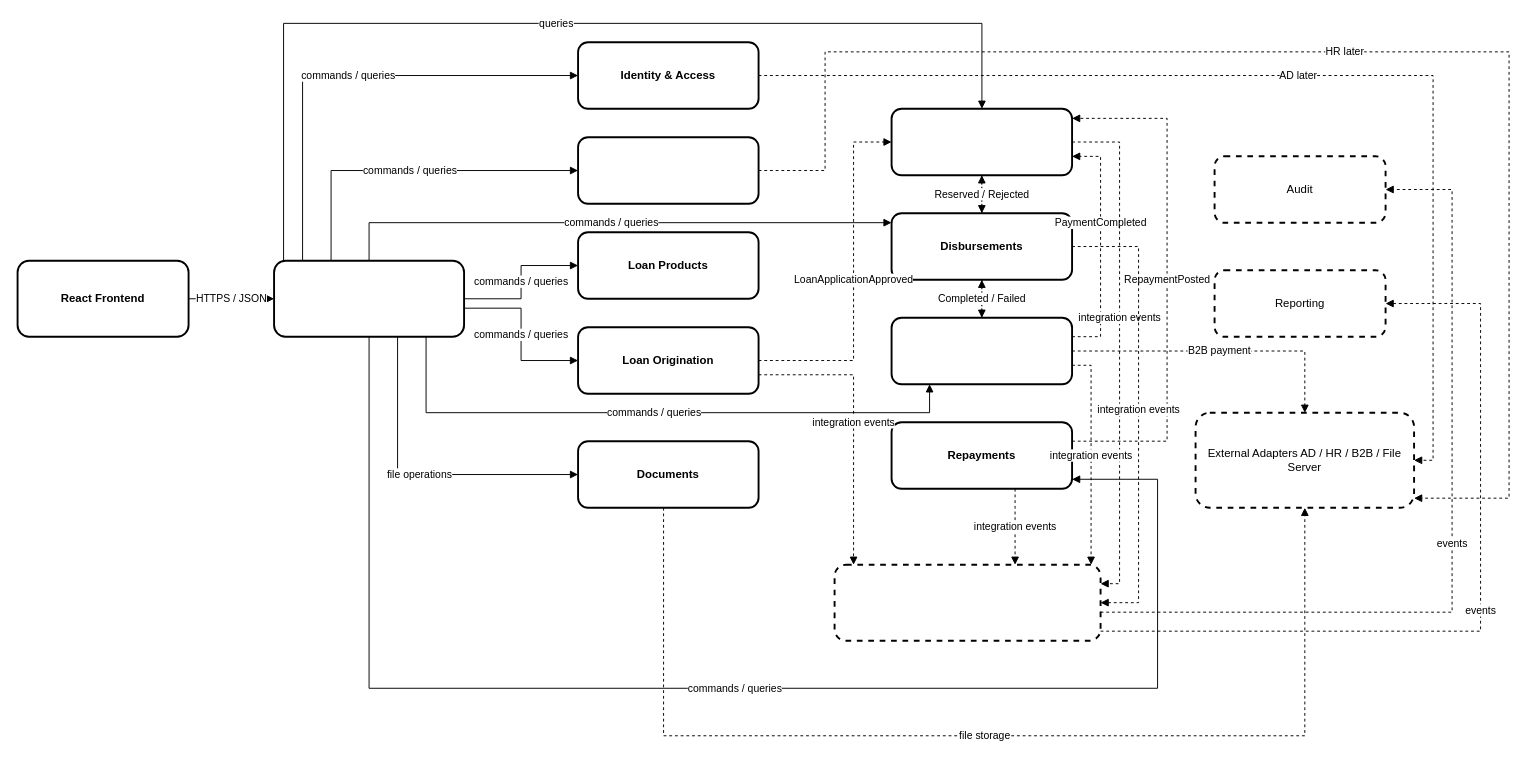
This 1533x760 diagram has some shape labels left out. Each missing label, with the box of its shape:
ASP.NET Core API: (273, 259, 465, 337)
Borrowers: (577, 136, 759, 204)
Loan Accounts: (890, 107, 1073, 176)
Outbox / Inbox Dispatcher: (833, 563, 1101, 641)
Treasury: (890, 316, 1073, 385)
